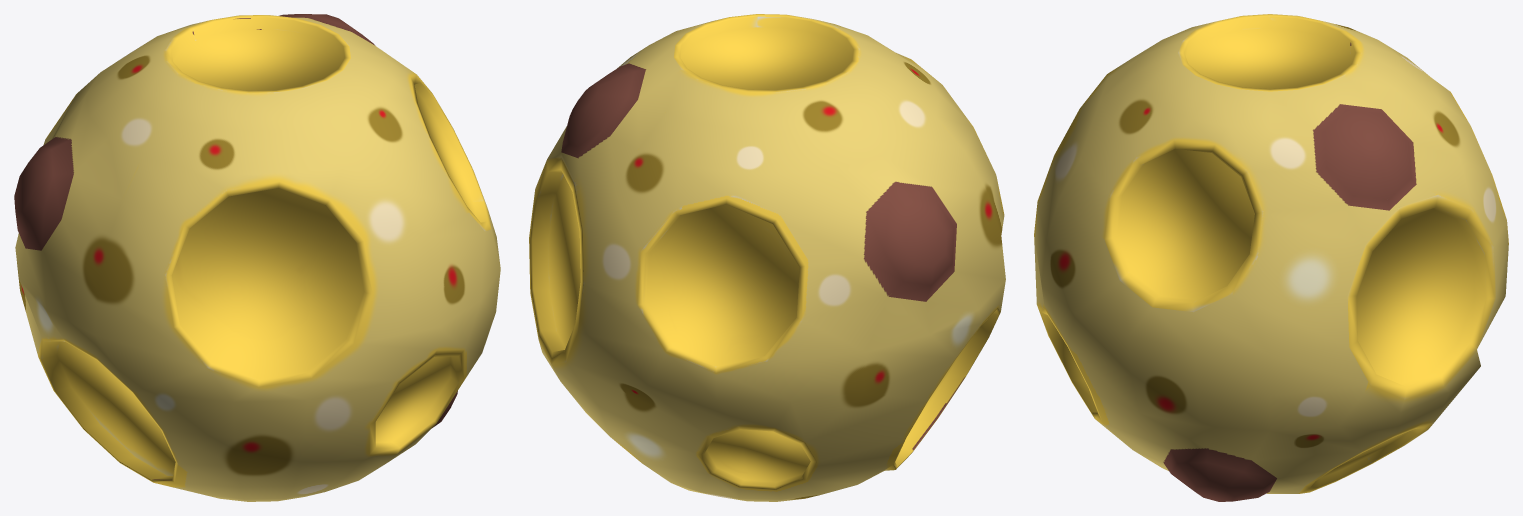
File: Espora_atack.fbx
3 renders of one model, left to right at view 1: azimuth 30°, elevation 25°; view 2: azimuth 150°, elevation 25°; view 3: azimuth 270°, elevation 25°, orthographic.
Visible parts, largest first — view 1: Esfera; view 2: Esfera; view 3: Esfera.
Boxes of the visible parts, x1,y1,x2,y2 form: Esfera: (14, 14, 500, 501); Esfera: (529, 14, 1005, 501); Esfera: (1034, 14, 1508, 501).
Size of the model in its own units: 200 by 190 by 198.
1 material, 1 textured.
